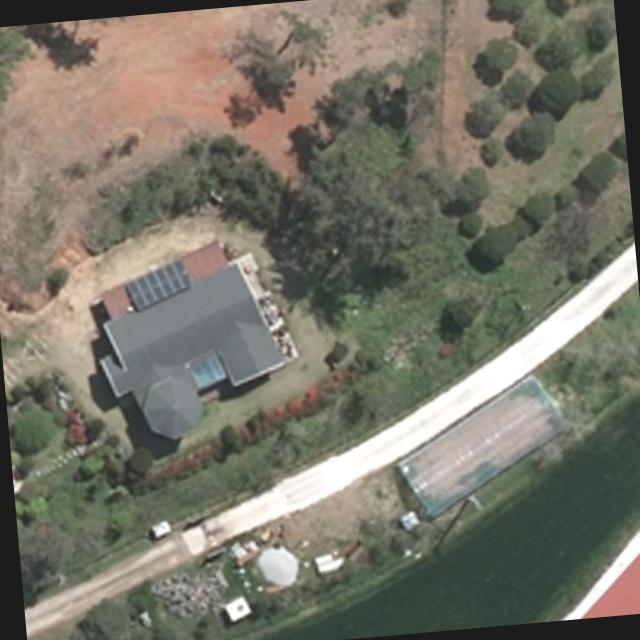solar: (120, 252, 198, 316)
